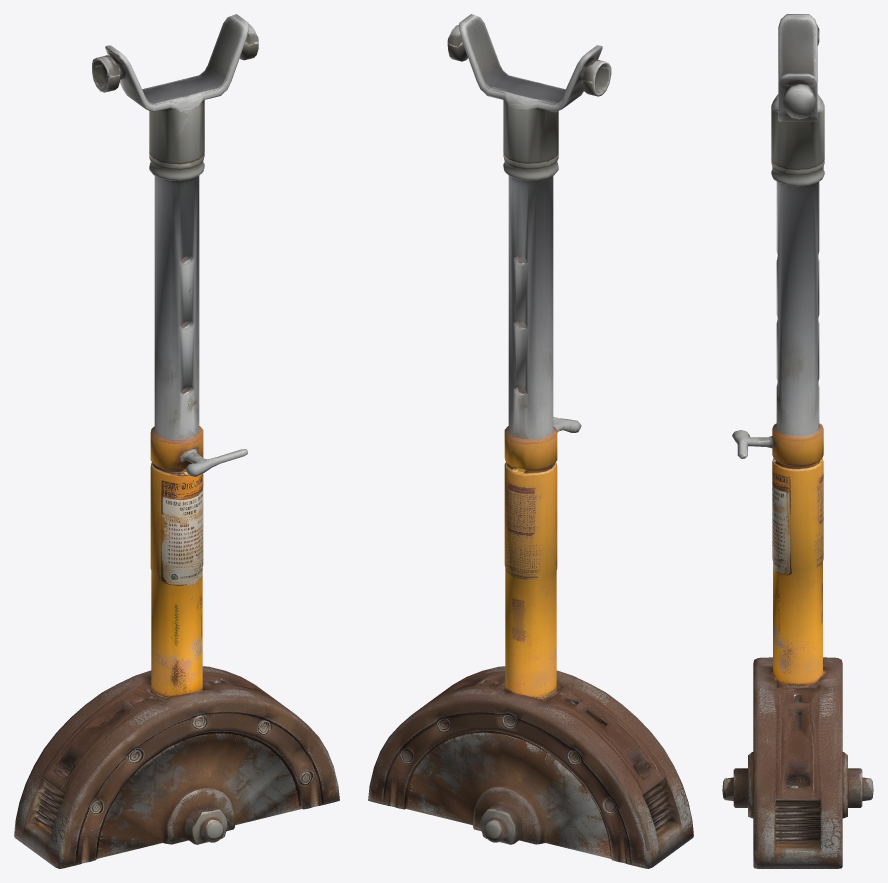
File: Levier_Orientation.glb
3 views of the same model, side by side, from view 1: azimuth 30°, elevation 25°; view 2: azimuth 150°, elevation 25°; view 3: azimuth 270°, elevation 25° (orthographic). The views are drawn at different scales.
Parts seen in each view (by area): view 1: Meshy_Mesh_0.005; view 2: Meshy_Mesh_0.005; view 3: Meshy_Mesh_0.005.
Boxes of the visible parts, bbox=[...] form: Meshy_Mesh_0.005: bbox=[14, 14, 339, 868]; Meshy_Mesh_0.005: bbox=[368, 14, 693, 868]; Meshy_Mesh_0.005: bbox=[722, 14, 873, 868].
Bounding box in the file's own units: 0.7197 × 1.9 × 0.3442.
Materials: 1 (1 with a texture image).
